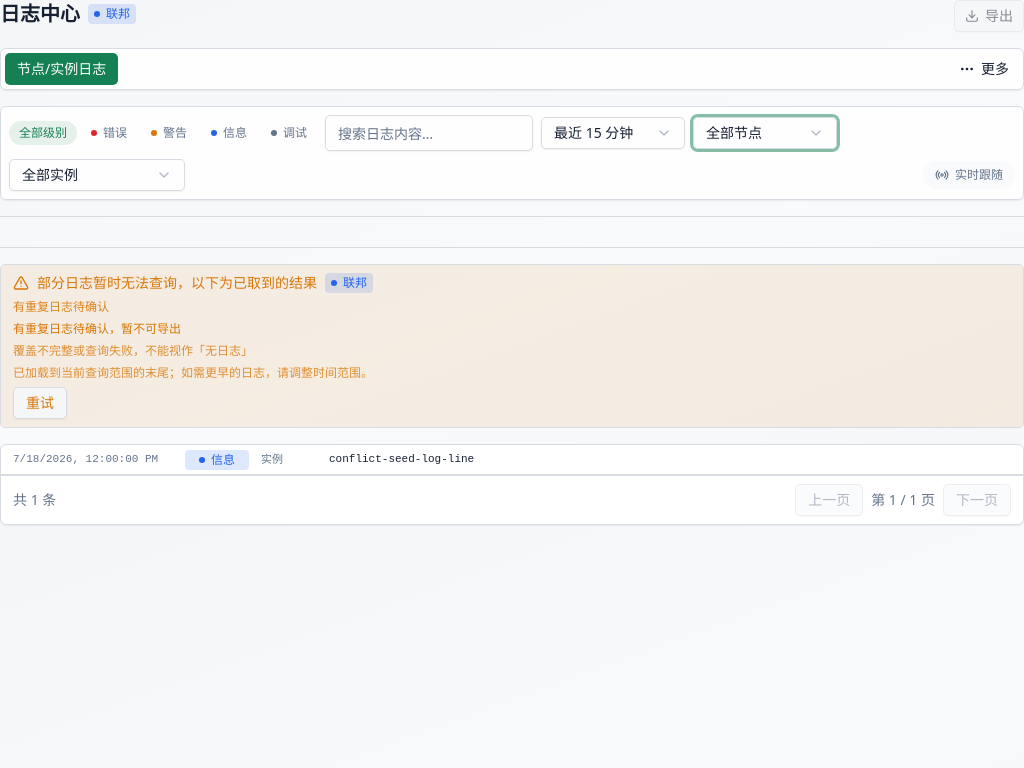
Test: LogsPage × 身份冲突人工清空 › ① 有冲突且已选节点 → 出现清空入口；点击打开二次确认弹窗
Press Enter
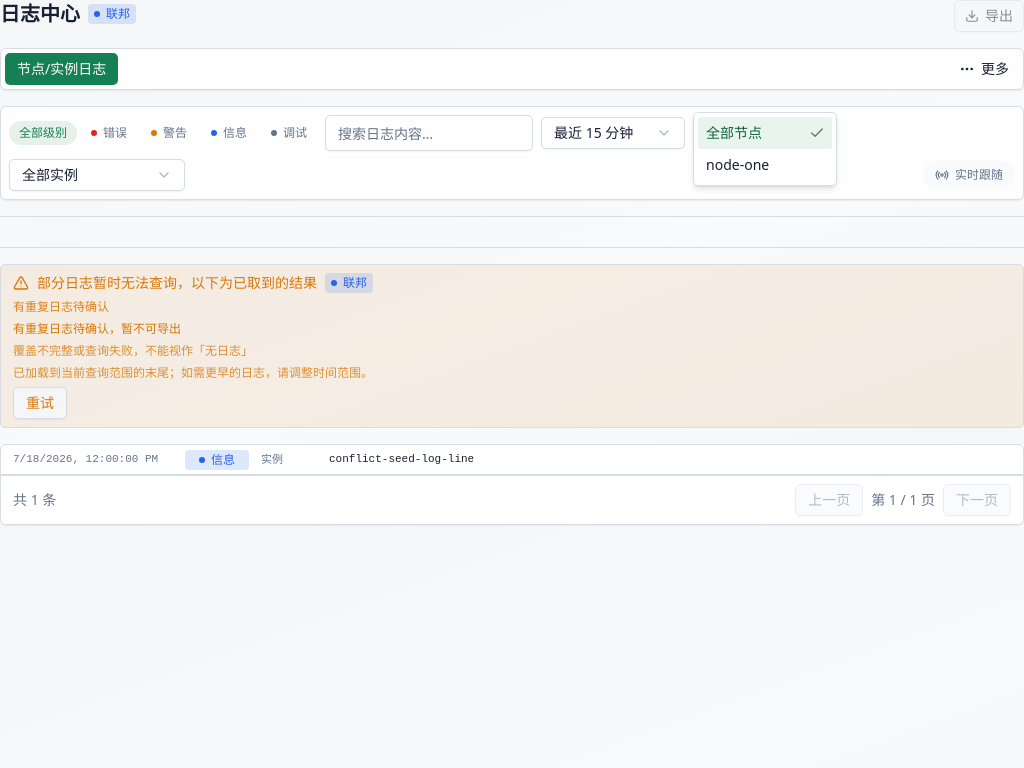
Click the option "node-one". click: (738, 164)
box: [706,155,769,174]
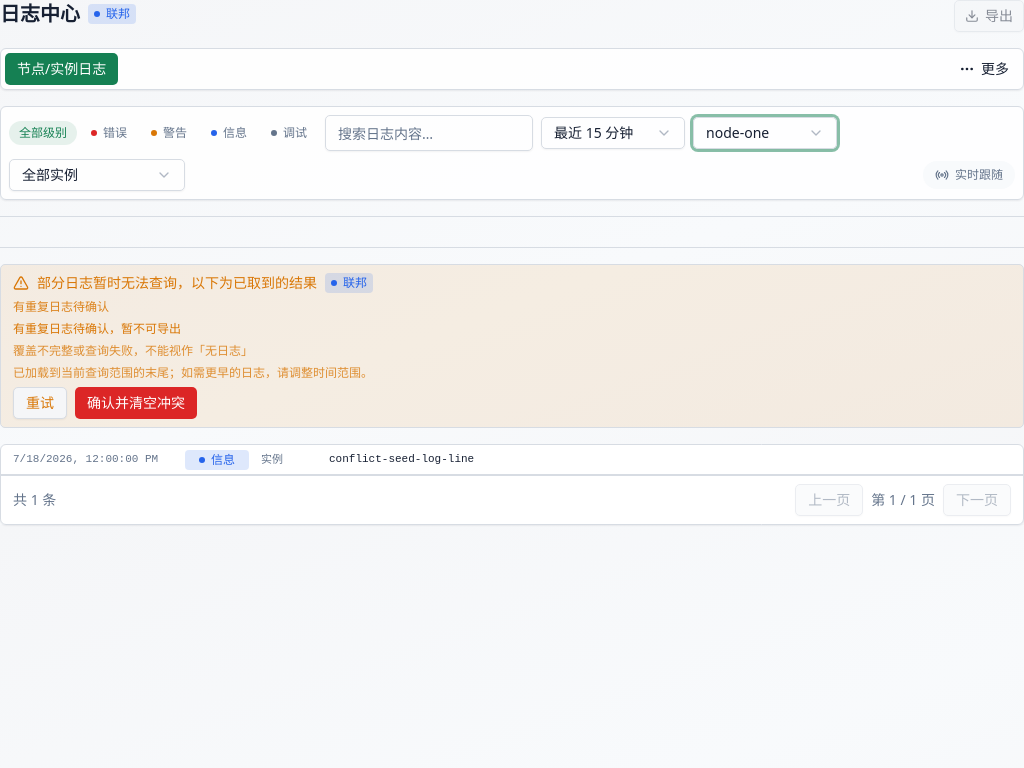
Check: the button with test id "logs-clear-conflicts-open" is shown
Click the button with test id "logs-clear-conflicts-open". click: (136, 403)
box: [75,387,197,419]
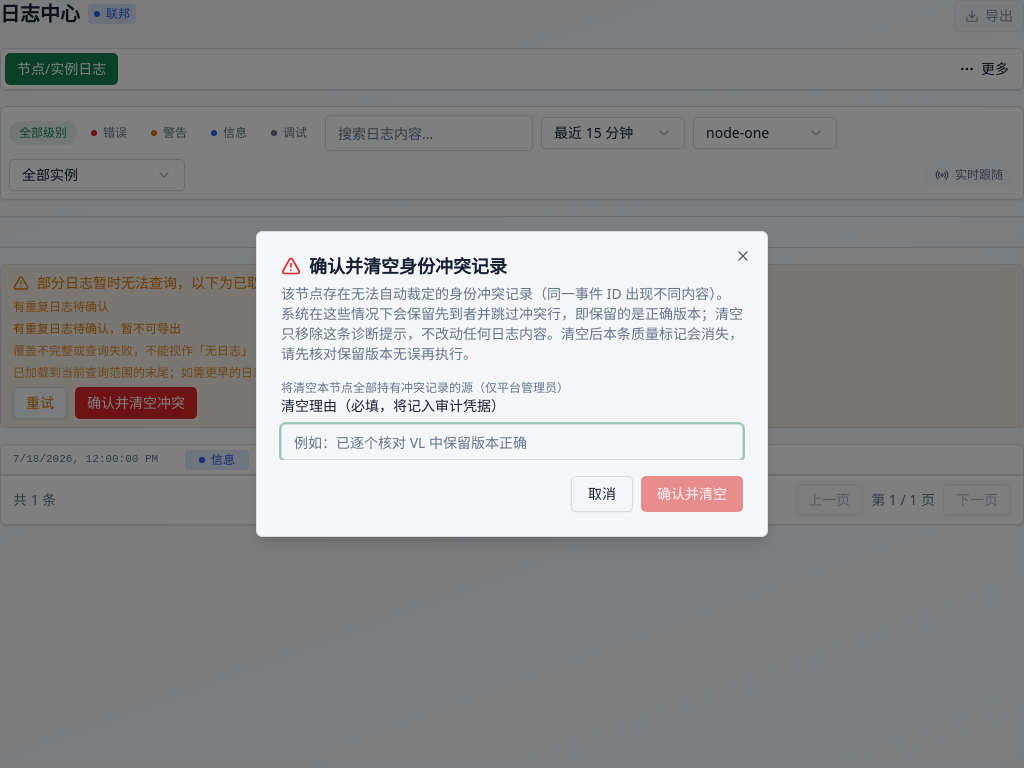
Check: the dialog with test id "logs-clear-conflicts-dialog" is shown, box [256,231,768,537]
Check: the button with test id "logs-clear-conflicts-confirm" is disabled, box [641,476,743,512]
